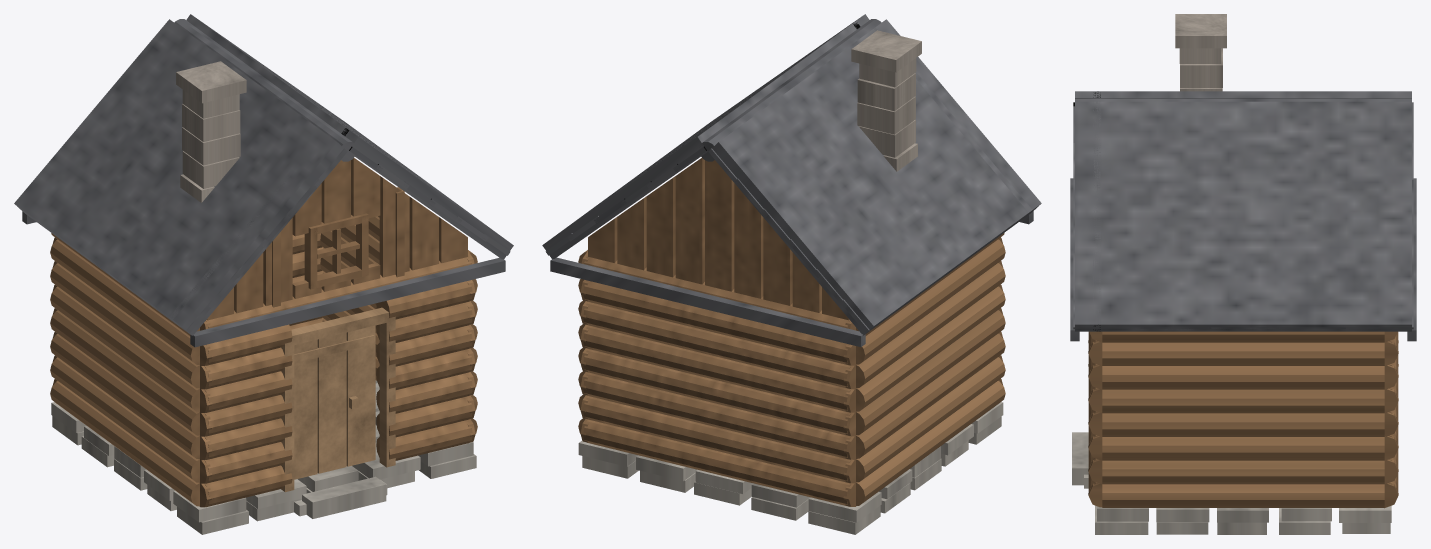
The model's file is assembled_log_hut.glb.
3 renders of one model, left to right at view 1: azimuth 30°, elevation 25°; view 2: azimuth 150°, elevation 25°; view 3: azimuth 270°, elevation 25°, orthographic.
Visible parts, largest first — view 1: walls, roof, door, foundation, chimney; view 2: walls, roof, foundation, chimney; view 3: roof, walls, foundation, chimney.
Boxes of the visible parts, bbox=[...] form: walls: bbox=[50, 158, 477, 507]; roof: bbox=[14, 14, 513, 347]; door: bbox=[281, 307, 395, 492]; foundation: bbox=[51, 380, 476, 534]; chimney: bbox=[176, 61, 246, 202]; walls: bbox=[578, 158, 1005, 506]; roof: bbox=[542, 14, 1041, 346]; foundation: bbox=[578, 402, 1003, 534]; chimney: bbox=[851, 30, 921, 171]; roof: bbox=[1070, 91, 1416, 341]; walls: bbox=[1088, 331, 1398, 508]; foundation: bbox=[1072, 432, 1391, 534]; chimney: bbox=[1175, 14, 1226, 91].
Size of the model in its own units: 2.52 by 2.94 by 2.27.
5 materials, 5 textured.
